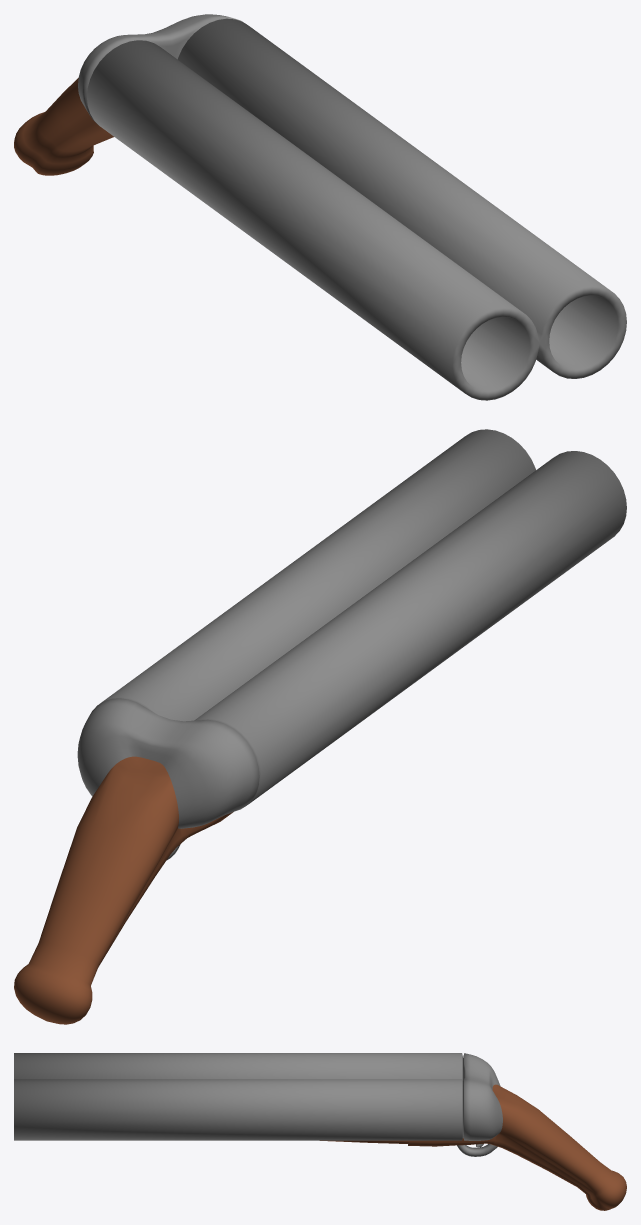
Rendered from Schrotflinte.fbx.
3 renders of one model, top to bottom at view 1: azimuth 30°, elevation 25°; view 2: azimuth 150°, elevation 25°; view 3: azimuth 270°, elevation 25°, orthographic. The views are drawn at different scales.
Visible parts, largest first — view 1: Circle.002, Circle.001, Circle.000; view 2: Circle.002, Circle.001, Circle.000; view 3: Circle.002, Circle.001, Circle.000.
Part boxes in pixels (left/top/right/bottom): Circle.002: left=87, top=18, right=626, bottom=400; Circle.001: left=14, top=78, right=113, bottom=175; Circle.000: left=78, top=14, right=245, bottom=124; Circle.002: left=100, top=429, right=626, bottom=804; Circle.001: left=14, top=756, right=233, bottom=1024; Circle.000: left=77, top=698, right=259, bottom=828; Circle.002: left=14, top=1053, right=463, bottom=1143; Circle.001: left=408, top=1084, right=626, bottom=1210; Circle.000: left=408, top=1053, right=502, bottom=1144.
Bounding box in the file's own units: 396 × 491 × 1966.
